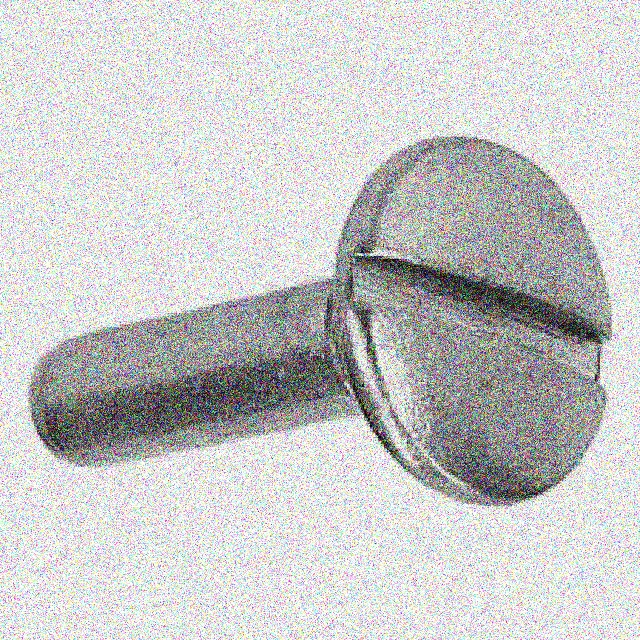duz: (335, 137, 613, 511)
